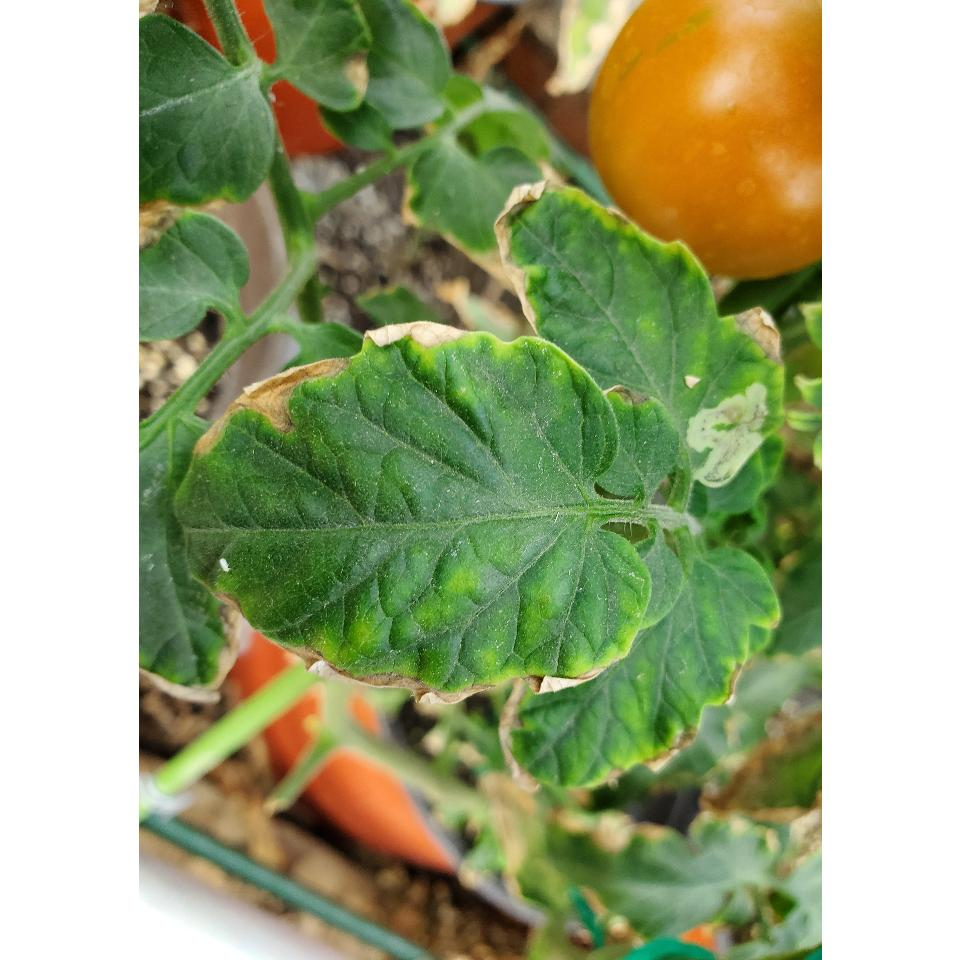tomato_bacterial_blight: (168, 322, 644, 700), (488, 164, 788, 460), (504, 685, 732, 792)
